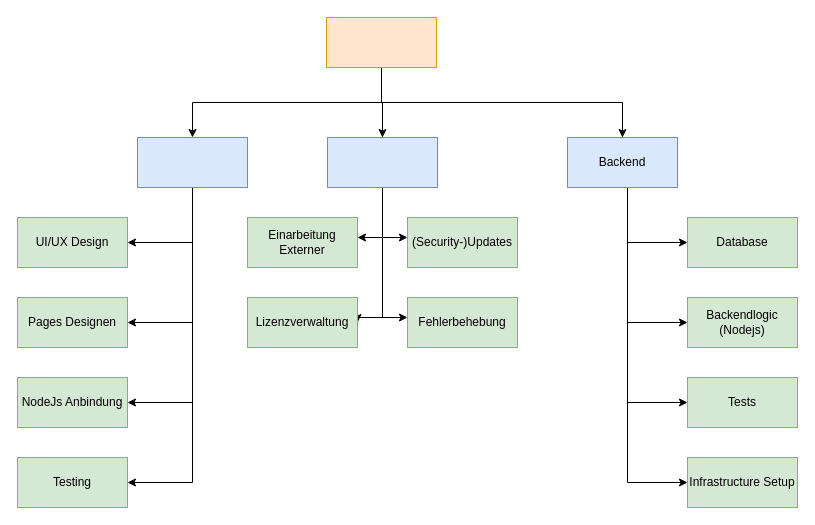
Image size: 815x525. Some labels were removed from this diagram. The centre of each missing label's shape, as x and y in pixels:
"Frontend" belongs at (192,162).
"Support" belongs at (382,162).
"Surveysphere" belongs at (381,42).
